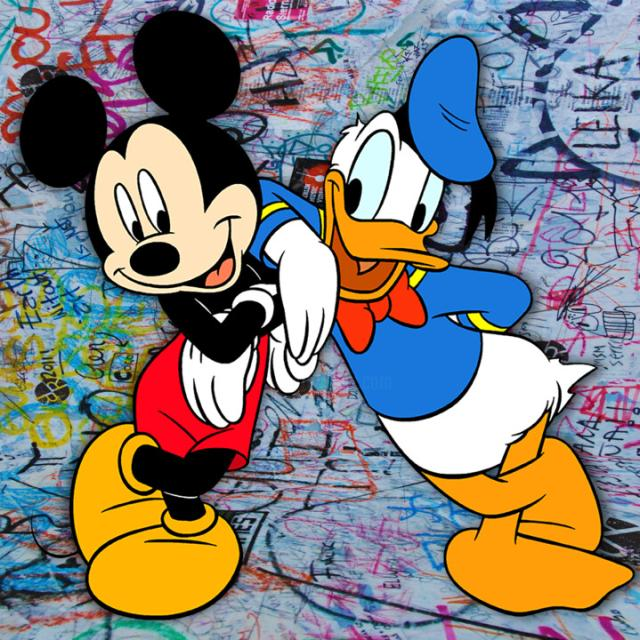mickey: (17, 7, 294, 625)
